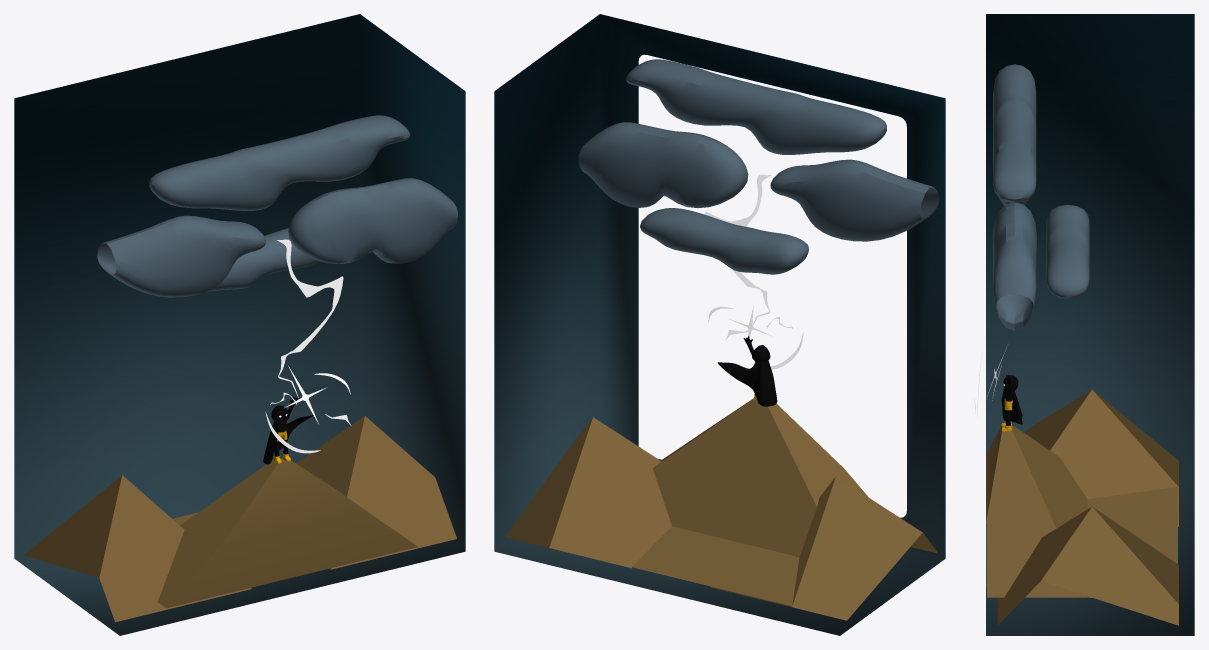
Rendered from 8_LightningWizard.gltf.
3 renders of one model, left to right at view 1: azimuth 30°, elevation 25°; view 2: azimuth 150°, elevation 25°; view 3: azimuth 270°, elevation 25°, orthographic.
Parts seen in each view (by area): view 1: 8_LightningWizard_bg, 8_LightningWizard; view 2: 8_LightningWizard, 8_LightningWizard_bg; view 3: 8_LightningWizard_bg, 8_LightningWizard.
Boxes of the visible parts, x1,y1,x2,y2 form: 8_LightningWizard_bg: [14, 14, 465, 635]; 8_LightningWizard: [24, 115, 457, 622]; 8_LightningWizard: [505, 59, 939, 620]; 8_LightningWizard_bg: [494, 14, 945, 635]; 8_LightningWizard_bg: [986, 14, 1194, 635]; 8_LightningWizard: [974, 64, 1178, 625].
Size of the model in its own units: 2.76 by 3.51 by 1.54.
Materials: 3 (3 with a texture image).
